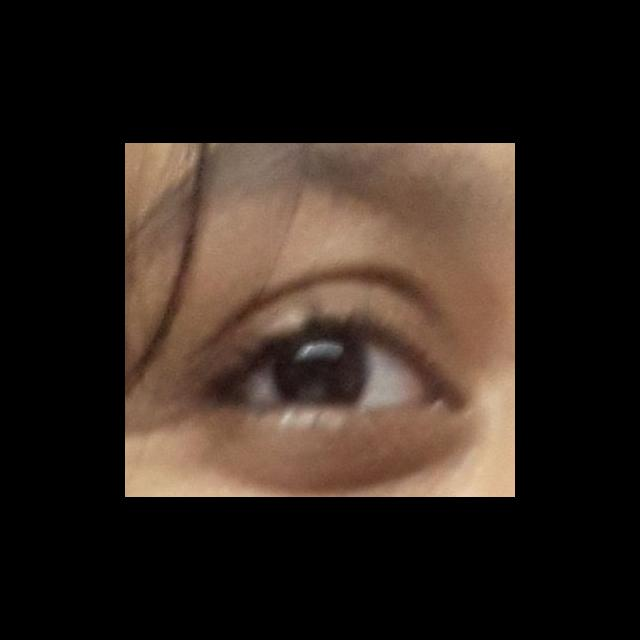eye: (236, 338, 432, 416)
iris: (272, 339, 369, 412)
